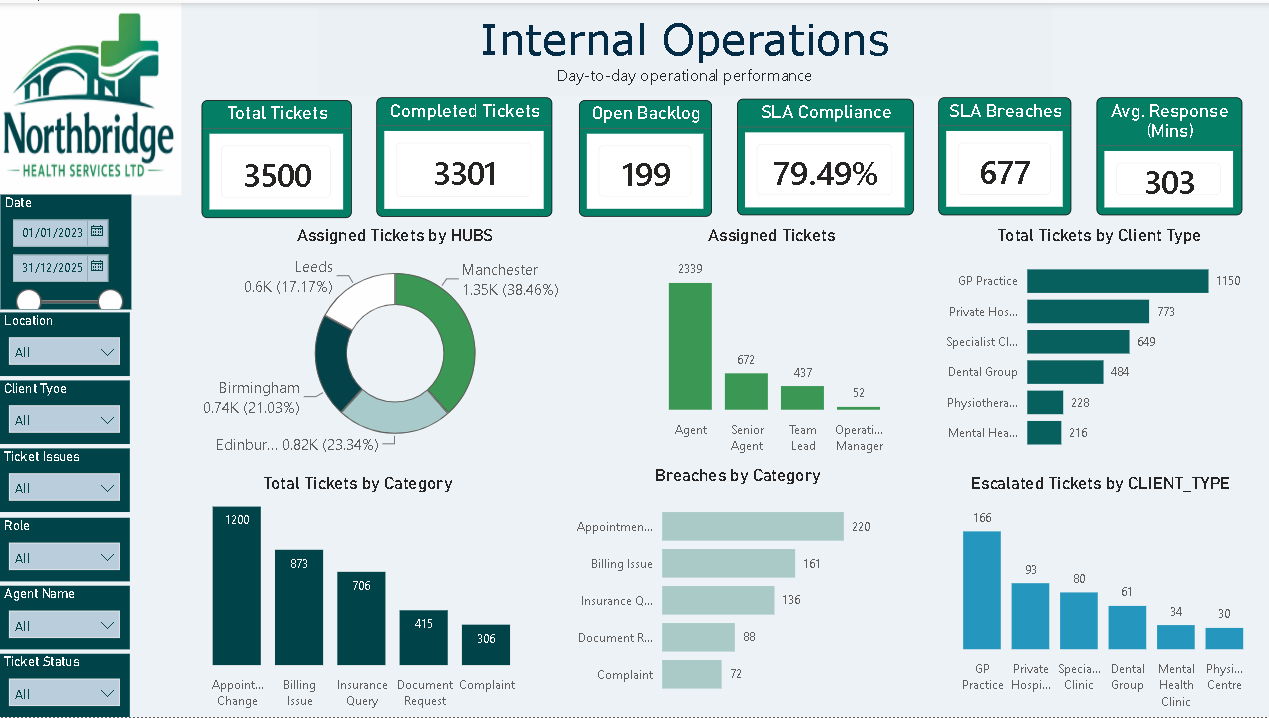

Layout of this report page (visuals, bound fields, positions):
{"tool":"powerbi","page":{"name":"Internal Operations","canvas":[1280,720],"ordinal":1},"visuals":[{"type":"clusteredColumnChart","title":"Assigned Tickets","fields":{"Category":["DIM_AGENTS.ROLE"],"Y":["CountNonNull(FCT_TICKETS.Ticket Count)"]},"box":[640.6,223.8,276.9,239.2],"z":0},{"type":"cardVisual","title":"Total Tickets","fields":{"Data":["_Measures.Ticket Count"]},"box":[204.3,98.6,151.4,118.6],"z":1000},{"type":"cardVisual","title":"Open Backlog","fields":{"Data":["_Measures.Active Workload"]},"box":[584,97.2,134.3,117.5],"z":2000},{"type":"donutChart","title":"Assigned Tickets by HUBS","fields":{"Category":["DIM_AGENTS.HUB"],"Y":["CountNonNull(FCT_TICKETS.Ticket Count)"]},"box":[176.2,223.8,446.2,239.2],"z":3000},{"type":"cardVisual","title":"SLA Breaches","fields":{"Data":["FCT_TICKETS.SLA Breached Tickets"]},"box":[947,95.8,134.3,118.9],"z":4000},{"type":"cardVisual","title":"SLA Compliance","fields":{"Data":["DIM_AGENTS.SLA Compliance %1"]},"box":[743.6,96.5,178,117.6],"z":5000},{"type":"textbox","box":[321.7,4.2,739.9,89.5],"z":6000},{"type":"lineStackedColumnComboChart","title":"Total Tickets by Category","fields":{"Category":["DIM_TICKET_CATEGORY.CATEGORY_NAME"],"Y":["_Measures.Ticket Count"]},"box":[176.3,474.3,370.7,246.2],"z":7000},{"type":"clusteredBarChart","title":"Breaches by Category","fields":{"Category":["DIM_TICKET_CATEGORY.CATEGORY_NAME"],"Y":["_Measures.SLA Breached Tickets"]},"box":[565.9,465.9,356.8,246.2],"z":8000},{"type":"cardVisual","title":"Completed Tickets","fields":{"Data":["_Measures.Completed Tickets"]},"box":[381.1,95.1,177.6,120.3],"z":9000},{"type":"cardVisual","title":"Avg. Response (Mins)","fields":{"Data":["_Measures.Avg First Response Time (Minutes)"]},"box":[1106.6,95.8,146.9,118.9],"z":10000},{"type":"image","box":[0,0,184,193.8],"z":11000},{"type":"clusteredBarChart","title":"Total Tickets by Client Type","fields":{"Category":["DIM_CLIENTS.CLIENT_TYPE"],"Y":["_Measures.Ticket Count"]},"box":[938.5,223.8,341.3,239.2],"z":12000},{"type":"columnChart","fields":{"Category":["DIM_CLIENTS.CLIENT_TYPE"],"Y":["_Measures.Escalated Tickets"]},"box":[941.4,474.3,338.6,246.2],"z":13000},{"type":"slicer","title":"Location","fields":{"Values":["DIM_AGENTS.HUB"]},"box":[0,312.4,132,64.4],"z":14000},{"type":"slicer","title":"Client Tyoe","fields":{"Values":["DIM_CLIENTS.CLIENT_TYPE"]},"box":[0,381,132,64.4],"z":15000},{"type":"slicer","title":"Ticket Issues","fields":{"Values":["DIM_TICKET_CATEGORY.CATEGORY_NAME"]},"box":[0,449.7,132,64.4],"z":16000},{"type":"slicer","title":"Role","fields":{"Values":["DIM_AGENTS.ROLE"]},"box":[0,518.3,132,64.4],"z":17000},{"type":"slicer","title":"Agent Name","fields":{"Values":["DIM_AGENTS.FULL_NAME"]},"box":[0,587,132,64.4],"z":18000},{"type":"slicer","title":"Ticket Status","fields":{"Values":["FCT_TICKETS.SLA STATUS"]},"box":[0,655.6,132,64.4],"z":19000},{"type":"slicer","title":"Date","fields":{"Values":["DIM_DATE.DATE_KEY"]},"box":[1.4,193.1,132,115],"z":20000}]}

Visuals, with their boxes in screenshot pixels (x1, y1, x2, y2), scaled from the page's 1280x720 canvas onto the 1269x718 screenshot:
"Assigned Tickets" clusteredColumnChart: select_region(635, 223, 910, 462)
"Total Tickets" cardVisual: select_region(203, 98, 353, 217)
"Open Backlog" cardVisual: select_region(579, 97, 712, 214)
"Assigned Tickets by HUBS" donutChart: select_region(175, 223, 617, 462)
"SLA Breaches" cardVisual: select_region(939, 96, 1072, 214)
"SLA Compliance" cardVisual: select_region(737, 96, 914, 214)
textbox: select_region(319, 4, 1052, 93)
"Total Tickets by Category" lineStackedColumnComboChart: select_region(175, 473, 542, 717)
"Breaches by Category" clusteredBarChart: select_region(561, 465, 915, 710)
"Completed Tickets" cardVisual: select_region(378, 95, 554, 215)
"Avg. Response (Mins)" cardVisual: select_region(1097, 96, 1243, 214)
image: select_region(0, 0, 182, 193)
"Total Tickets by Client Type" clusteredBarChart: select_region(930, 223, 1268, 462)
columnChart - DIM_CLIENTS.CLIENT_TYPE x _Measures.Escalated Tickets: select_region(933, 473, 1268, 717)
"Location" slicer: select_region(0, 312, 131, 376)
"Client Tyoe" slicer: select_region(0, 380, 131, 444)
"Ticket Issues" slicer: select_region(0, 448, 131, 513)
"Role" slicer: select_region(0, 517, 131, 581)
"Agent Name" slicer: select_region(0, 585, 131, 650)
"Ticket Status" slicer: select_region(0, 654, 131, 717)
"Date" slicer: select_region(1, 193, 132, 307)
